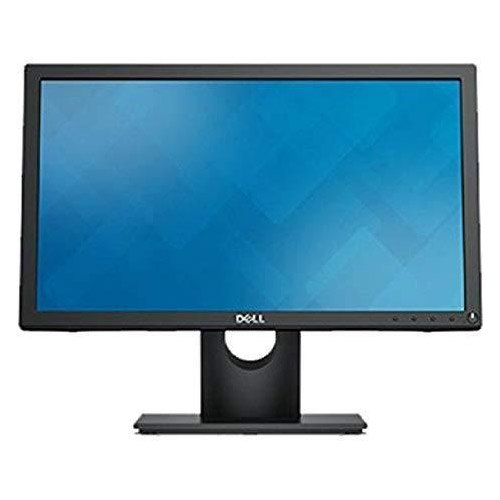dell-monitor-D1918H: (17, 60, 484, 437)
